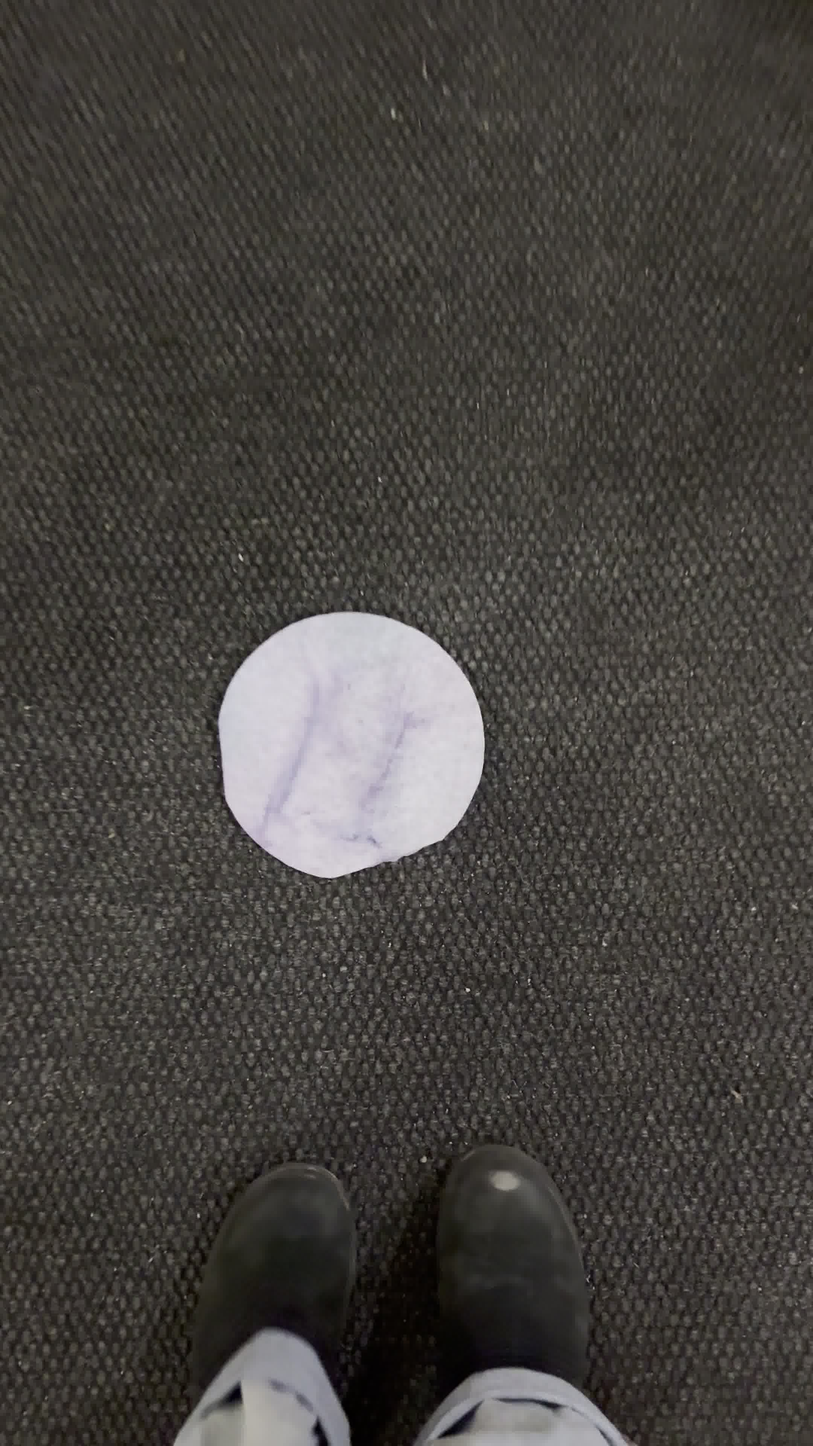Target: (216, 612, 485, 880)
